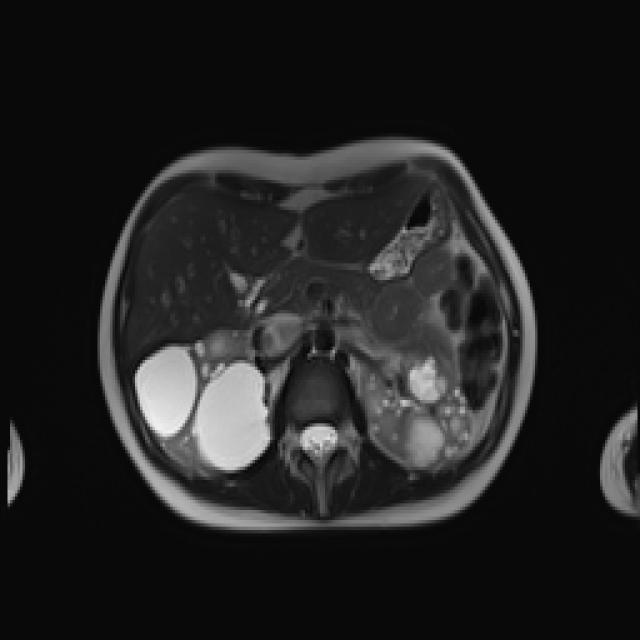sag: (133, 327, 272, 480)
sol: (355, 347, 471, 473)
